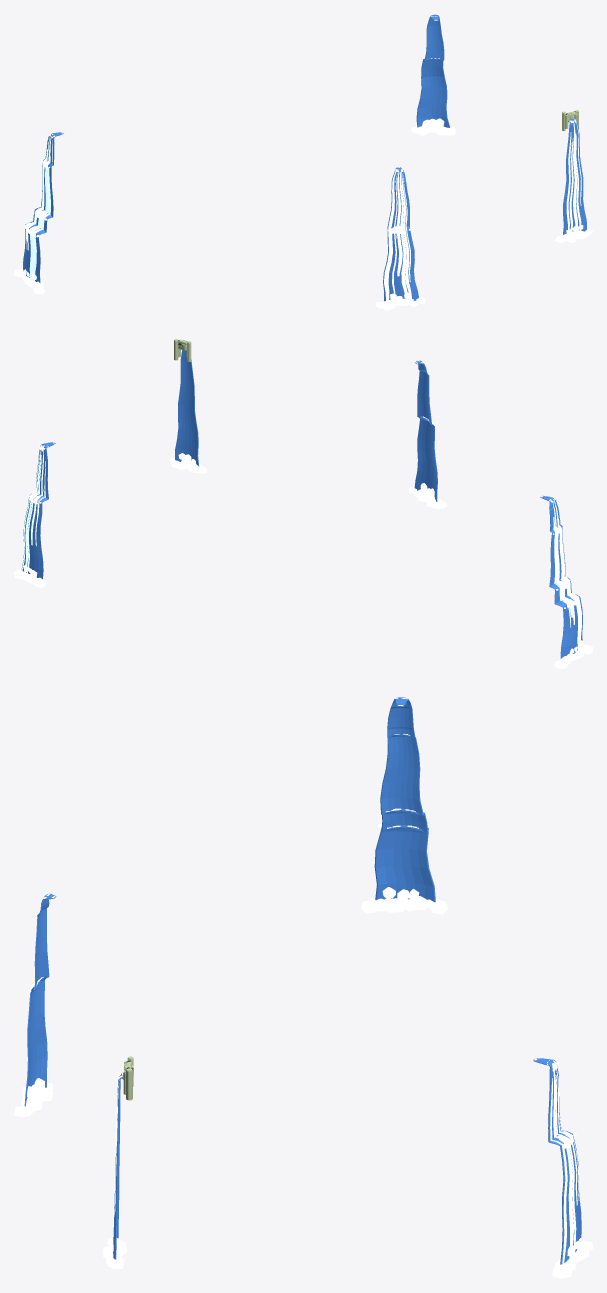
The model's file is ILHA3_07_WATER_f6fdb3.fbx.
The picture shows the model from 3 angles, top to bottom: view 1: azimuth 30°, elevation 25°; view 2: azimuth 150°, elevation 25°; view 3: azimuth 270°, elevation 25°; orthographic projection. The views are drawn at different scales.
Parts seen in each view (by area): view 1: SG_Water_Fall_East__Water_SG, SG_Water_Fall_West__Water_Fall, SG_Water_Fall_West__Water_SG, SG_Water_Fall_South__Water_SG, SG_Water_Fall_North__Water_SG, SG_Water_Fall_South__Water_Fall, SG_Water_Fall_North__Water_Fall, SG_Water_Fall_North__Foam, SG_Water_Fall_West__Foam, SG_Water_Fall_East__Foam, SG_Water_Fall_South__Foam; view 2: SG_Water_Fall_West__Water_SG, SG_Water_Fall_South__Water_SG, SG_Water_Fall_North__Water_SG, SG_Water_Fall_East__Water_SG, SG_Water_Fall_North__Water_Fall, SG_Water_Fall_North__Foam, SG_Water_Fall_East__Water_Fall, SG_Water_Fall_East__Foam, SG_Water_Fall_West__Foam; view 3: SG_Water_Fall_North__Water_SG, SG_Water_Fall_West__Water_SG, SG_Water_Fall_East__Water_SG, SG_Water_Fall_East__Water_Fall, SG_Water_Fall_North__Foam, SG_Water_Fall_East__Foam, SG_Water_Fall_West__Foam, SG_Water_Fall_South__Water_SG.
Boxes of the visible parts, x1,y1,x2,y2 form: SG_Water_Fall_East__Water_SG: (416, 14, 450, 127); SG_Water_Fall_West__Water_Fall: (384, 170, 411, 301); SG_Water_Fall_West__Water_SG: (383, 167, 418, 301); SG_Water_Fall_South__Water_SG: (563, 118, 586, 234); SG_Water_Fall_North__Water_SG: (23, 132, 63, 282); SG_Water_Fall_South__Water_Fall: (566, 120, 581, 230); SG_Water_Fall_North__Water_Fall: (25, 135, 52, 280); SG_Water_Fall_North__Foam: (14, 132, 62, 294); SG_Water_Fall_West__Foam: (375, 167, 425, 310); SG_Water_Fall_East__Foam: (411, 14, 455, 135); SG_Water_Fall_South__Foam: (555, 119, 592, 242); SG_Water_Fall_West__Water_SG: (414, 360, 437, 501); SG_Water_Fall_South__Water_SG: (175, 347, 198, 466); SG_Water_Fall_North__Water_SG: (541, 496, 582, 658); SG_Water_Fall_East__Water_SG: (21, 442, 54, 578); SG_Water_Fall_North__Water_Fall: (553, 499, 581, 650); SG_Water_Fall_North__Foam: (541, 496, 592, 668); SG_Water_Fall_East__Water_Fall: (22, 451, 45, 572); SG_Water_Fall_East__Foam: (14, 442, 54, 587); SG_Water_Fall_West__Foam: (409, 360, 447, 509); SG_Water_Fall_North__Water_SG: (374, 697, 435, 902); SG_Water_Fall_West__Water_SG: (24, 893, 55, 1106); SG_Water_Fall_East__Water_SG: (534, 1058, 581, 1264); SG_Water_Fall_East__Water_Fall: (550, 1069, 579, 1263); SG_Water_Fall_North__Foam: (361, 697, 447, 914); SG_Water_Fall_East__Foam: (535, 1058, 592, 1278); SG_Water_Fall_West__Foam: (14, 893, 55, 1117); SG_Water_Fall_South__Water_SG: (113, 1072, 123, 1259).
Bounding box in the file's own units: 404 × 118 × 265.
4 materials, 1 textured.
